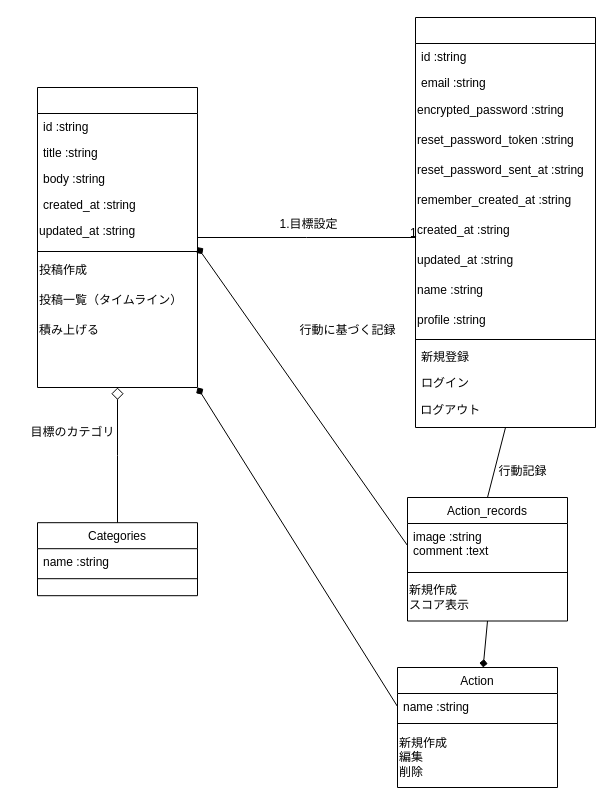
Some shapes in this 613 by 805 pixel diagram are drawn without their labels. Each missing label, with the box of its shape:
Post: (36, 86, 198, 388)
User: (414, 16, 596, 428)
